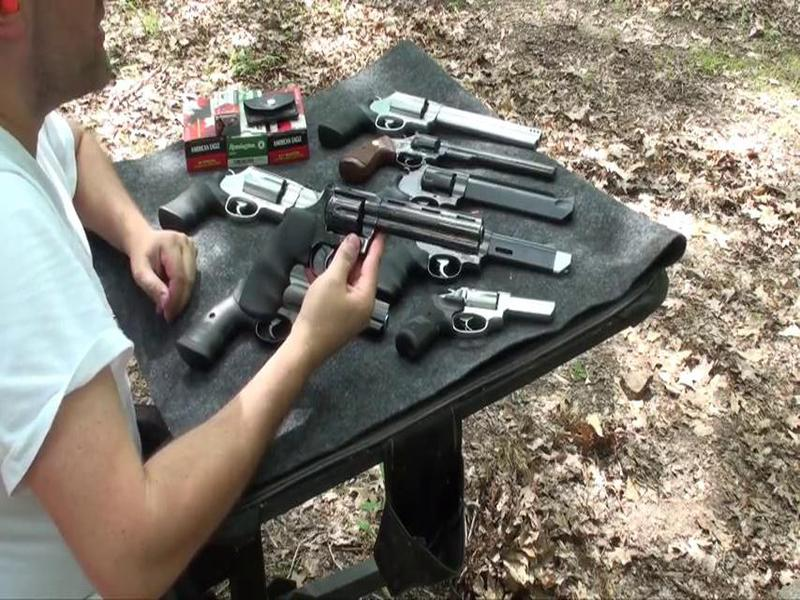Revolver: (222, 163, 490, 354)
